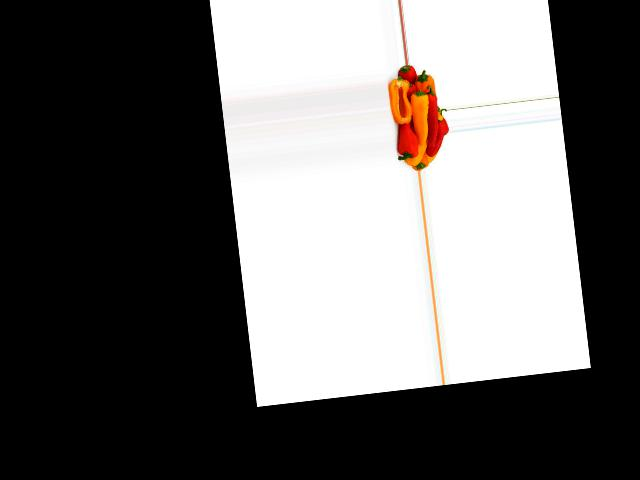bell_pepper: (397, 63, 422, 96)
